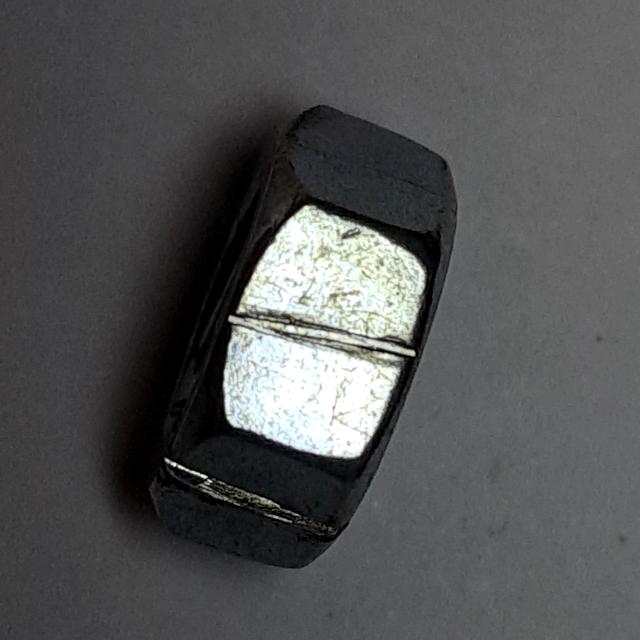Side_Scratches: (139, 96, 468, 582)
